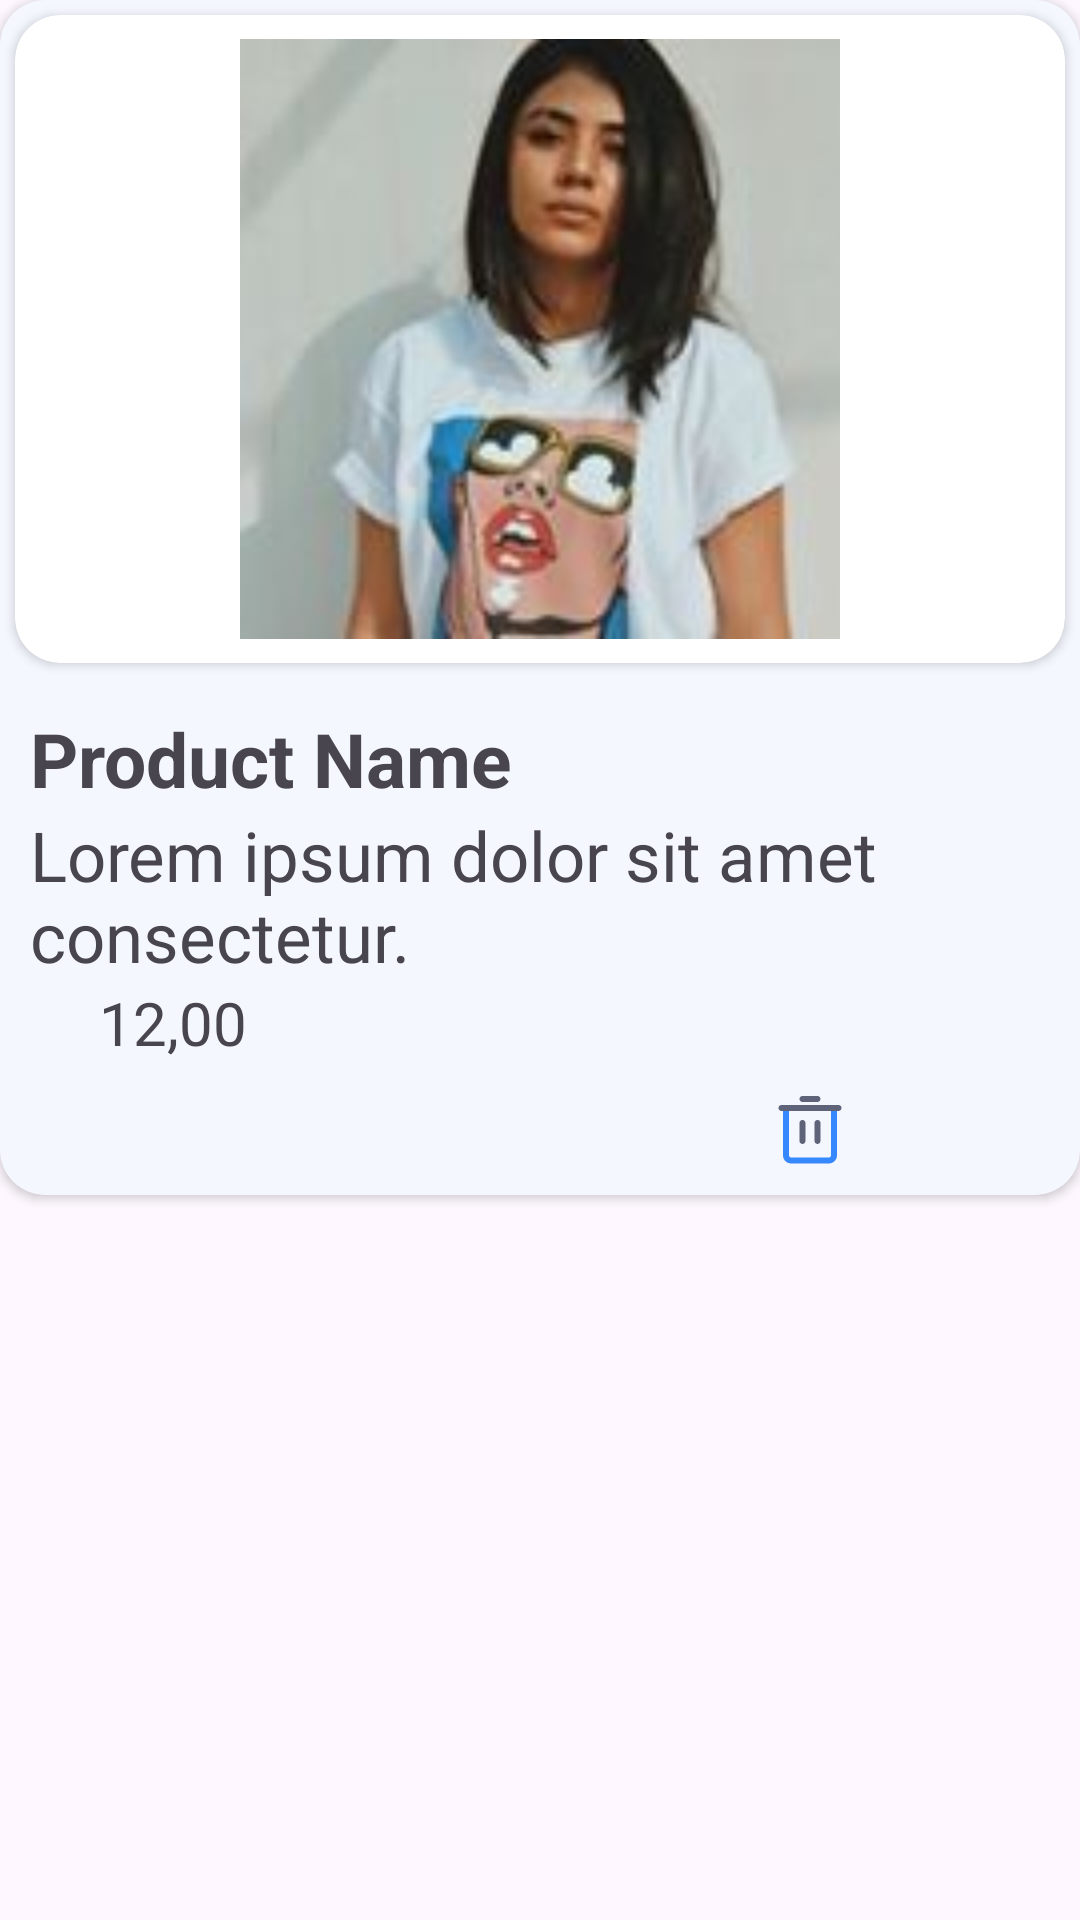

Point at icon controls on the screen. Image size 1080 × 1920, points as (x=x, y=y).
delete: (x=810, y=1130)
